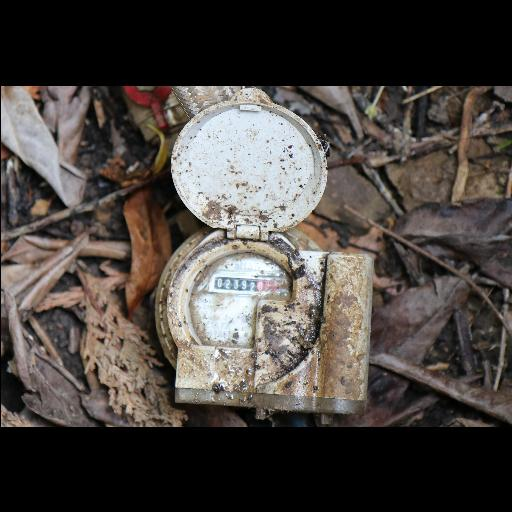0: (214, 276, 224, 289), (256, 279, 265, 292)
2: (223, 277, 233, 290), (248, 279, 257, 292)
3: (232, 277, 241, 290)
9: (240, 278, 249, 291)
border_water_meter_number: (208, 269, 283, 296)
